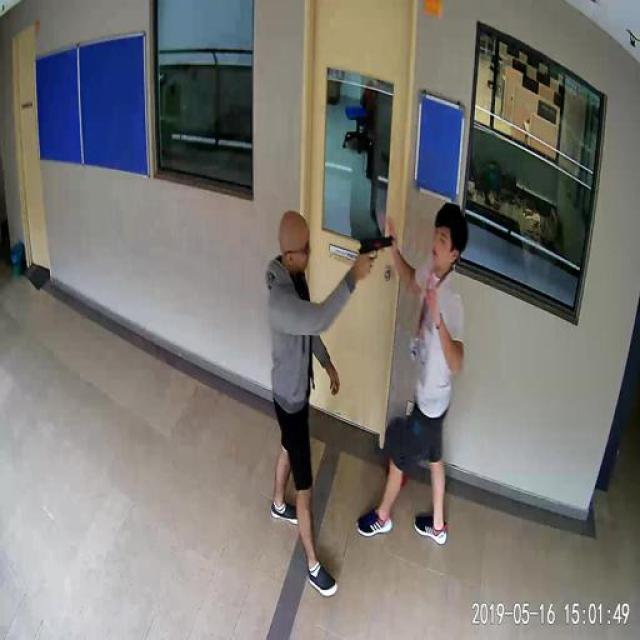Gun: (358, 234, 392, 272)
